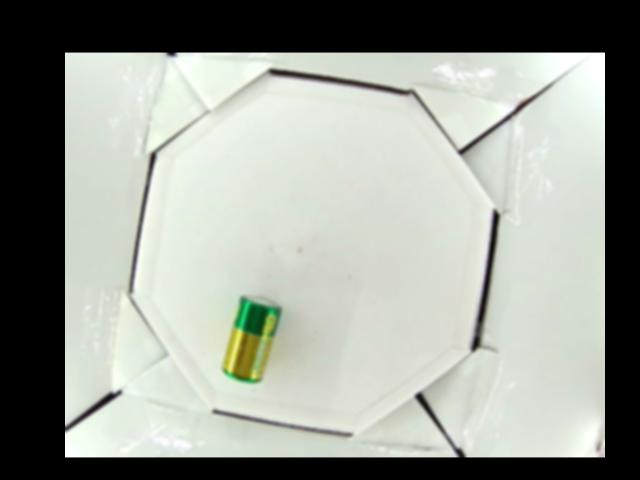Battery: (220, 294, 281, 383)
